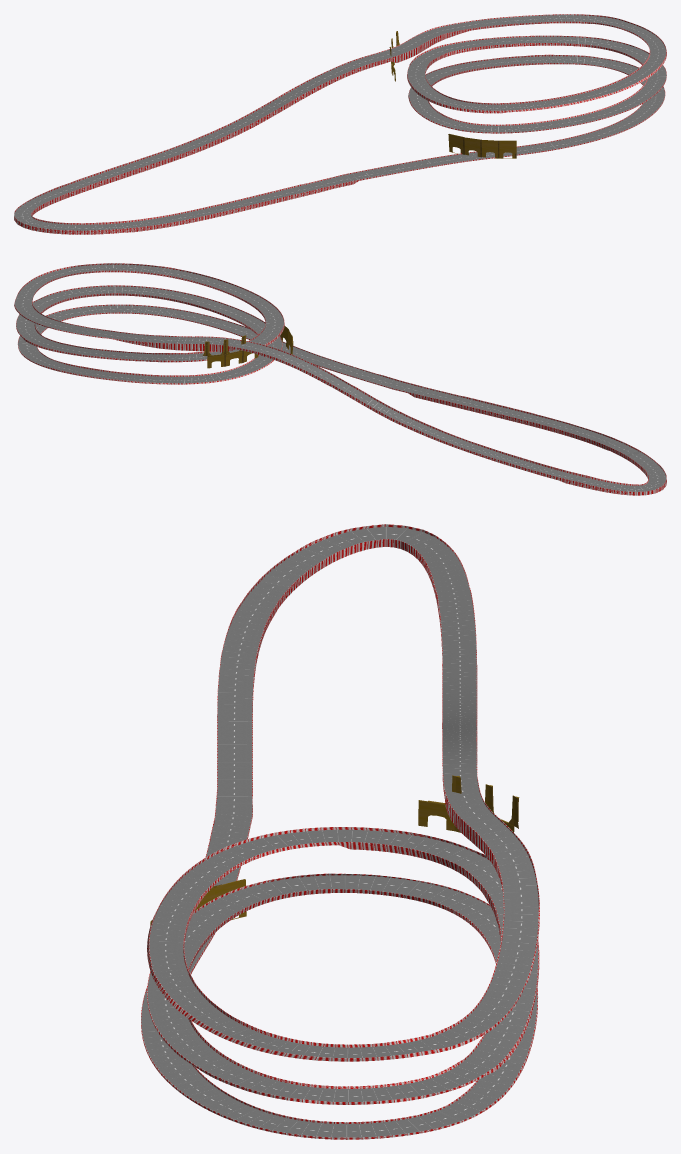
File: CarreteraGladiador.obj
The picture shows the model from 3 angles, top to bottom: view 1: azimuth 30°, elevation 25°; view 2: azimuth 150°, elevation 25°; view 3: azimuth 270°, elevation 25°; orthographic projection. The views are drawn at different scales.
Parts seen in each view (by area): view 1: CarGladi_CarGladiH, COLISEO_coliseoH; view 2: CarGladi_CarGladiH, COLISEO_coliseoH; view 3: CarGladi_CarGladiH, COLISEO_coliseoH.
Boxes of the visible parts, bbox=[...] form: CarGladi_CarGladiH: bbox=[14, 14, 666, 234]; COLISEO_coliseoH: bbox=[389, 31, 516, 158]; CarGladi_CarGladiH: bbox=[14, 263, 666, 495]; COLISEO_coliseoH: bbox=[203, 326, 293, 368]; CarGladi_CarGladiH: bbox=[141, 524, 539, 1139]; COLISEO_coliseoH: bbox=[150, 775, 519, 925].
Size of the model in its own units: 2081 by 219 by 572.
